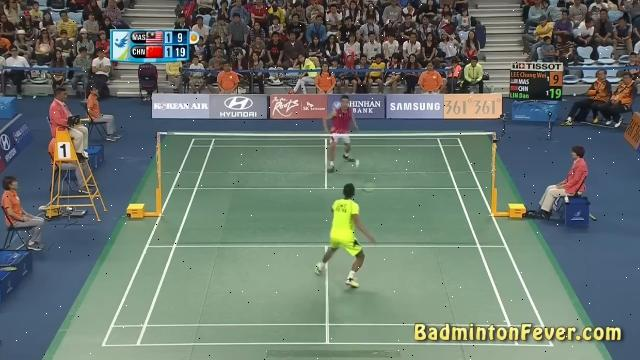Shuttlecock: (353, 157, 363, 169)
